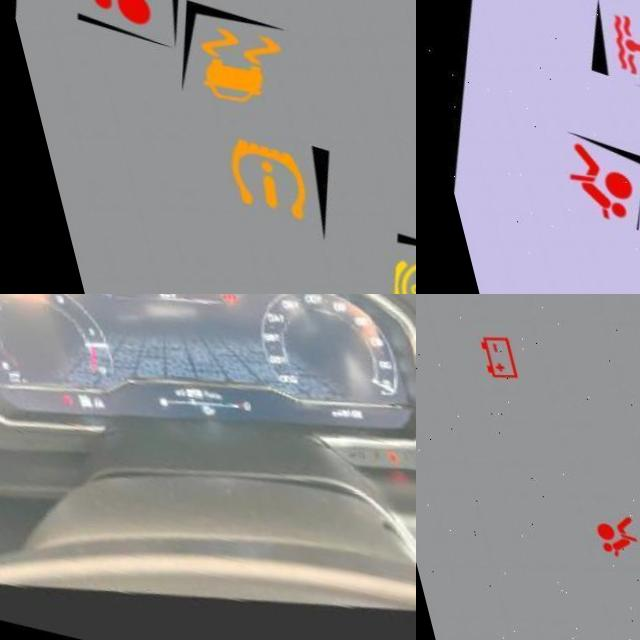Low fuel level: (173, 402, 188, 416)
